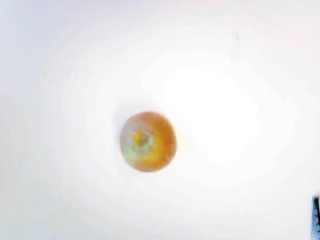apple: (121, 110, 175, 171)
